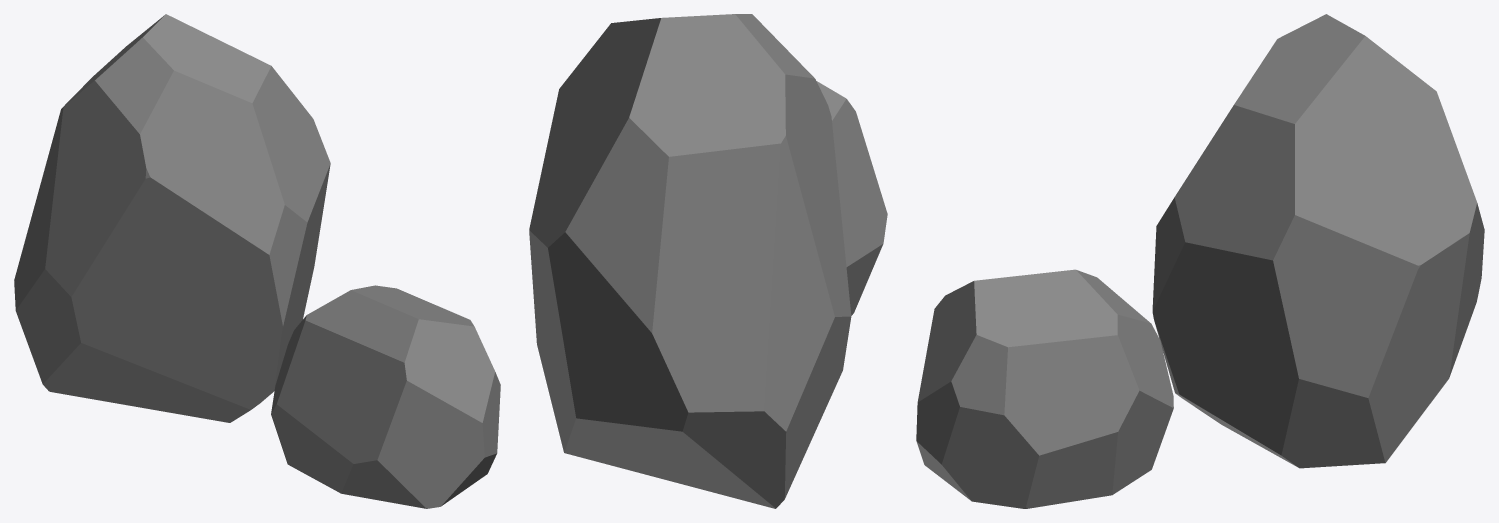
Rendered from Pedradupla.fbx.
The picture shows the model from 3 angles, left to right: view 1: azimuth 30°, elevation 25°; view 2: azimuth 150°, elevation 25°; view 3: azimuth 270°, elevation 25°; orthographic projection. The views are drawn at different scales.
Visible parts, largest first — view 1: Pedra; view 2: Pedra; view 3: Pedra.
Part boxes in pixels (bbox=[...]): Pedra: bbox=[14, 14, 500, 508]; Pedra: bbox=[529, 14, 887, 508]; Pedra: bbox=[916, 14, 1484, 508].
Bounding box in the file's own units: 164 × 192 × 252.
Materials: 1 (1 with a texture image).
